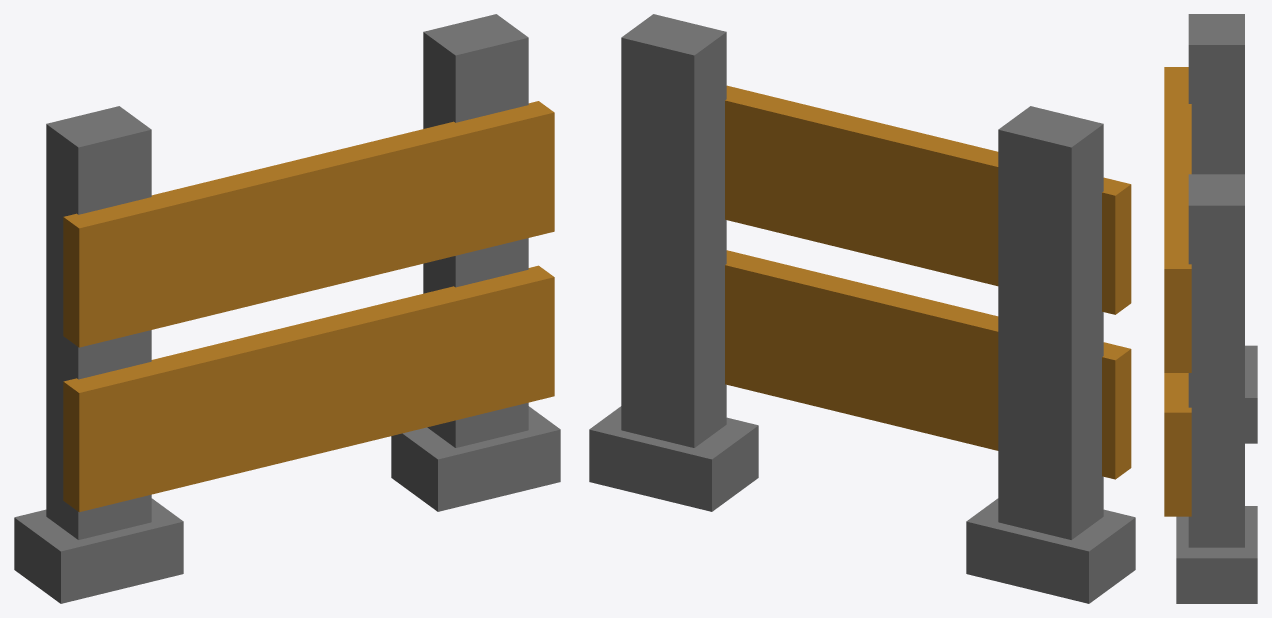
File: Obstacle.fbx
3 renders of one model, left to right at view 1: azimuth 30°, elevation 25°; view 2: azimuth 150°, elevation 25°; view 3: azimuth 270°, elevation 25°, orthographic. The views are drawn at different scales.
Parts seen in each view (by area): view 1: Plank.001, Plank, Base; view 2: Base, Plank, Plank.001; view 3: Base, Plank.001, Plank.
Part boxes in pixels (x1,y1,x2,y2): Plank.001: (63, 101, 554, 347); Plank: (63, 265, 554, 512); Base: (14, 14, 560, 603); Base: (589, 14, 1135, 603); Plank: (725, 250, 1131, 479); Plank.001: (725, 85, 1131, 314); Base: (1176, 14, 1257, 603); Plank.001: (1164, 67, 1191, 372); Plank: (1164, 373, 1191, 516).
Bounding box in the file's own units: 239 × 204 × 44.39.
